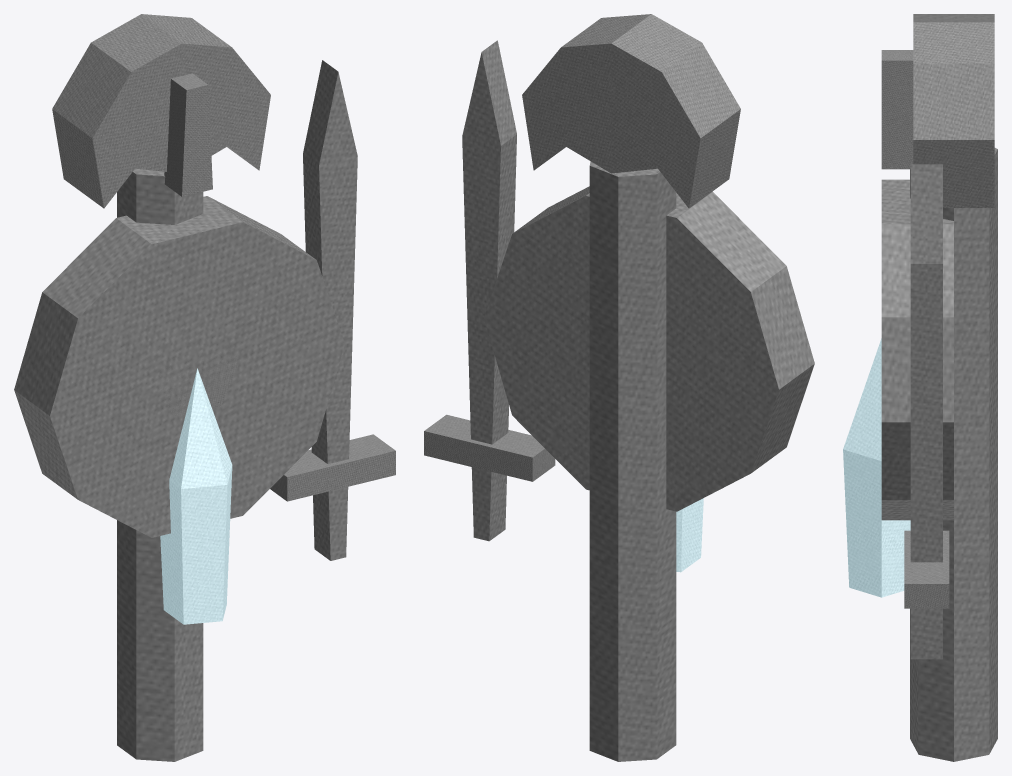
Rendered from spirit-fetish-warrior.glb.
The picture shows the model from 3 angles, left to right: view 1: azimuth 30°, elevation 25°; view 2: azimuth 150°, elevation 25°; view 3: azimuth 270°, elevation 25°; orthographic projection.
Parts seen in each view (by area): view 1: shield, spine, helm-left, sword, spirit-chip, helm-right, helmet-nasal, sword-guard, shield-boss; view 2: shield, spine, helm-left, sword, helm-right, sword-guard, spirit-chip; view 3: spine, sword, helm-right, shield, spirit-chip, helmet-nasal, sword-guard, helm-left.
Boxes of the visible parts, bbox=[...] form: shield: bbox=[14, 196, 344, 537]; spine: bbox=[117, 168, 203, 761]; helm-left: bbox=[52, 14, 181, 208]; sword: bbox=[303, 60, 357, 560]; spirit-chip: bbox=[160, 368, 232, 624]; helm-right: bbox=[142, 14, 270, 170]; helmet-nasal: bbox=[164, 73, 212, 196]; sword-guard: bbox=[270, 434, 395, 501]; shield-boss: bbox=[156, 348, 239, 417]; shield: bbox=[484, 186, 814, 511]; spine: bbox=[589, 161, 676, 761]; helm-left: bbox=[611, 14, 740, 208]; sword: bbox=[462, 40, 516, 541]; helm-right: bbox=[522, 14, 650, 172]; sword-guard: bbox=[424, 414, 555, 481]; spirit-chip: bbox=[676, 498, 703, 572]; spine: bbox=[910, 148, 997, 761]; sword: bbox=[910, 164, 942, 659]; helm-right: bbox=[913, 22, 994, 207]; shield: bbox=[881, 179, 953, 520]; spirit-chip: bbox=[843, 338, 910, 597]; helmet-nasal: bbox=[881, 50, 913, 169]; sword-guard: bbox=[904, 530, 949, 608]; helm-left: bbox=[913, 14, 994, 22].
Size of the model in its own units: 0.46 by 0.88 by 0.1715.
Materials: 4 (4 with a texture image).
